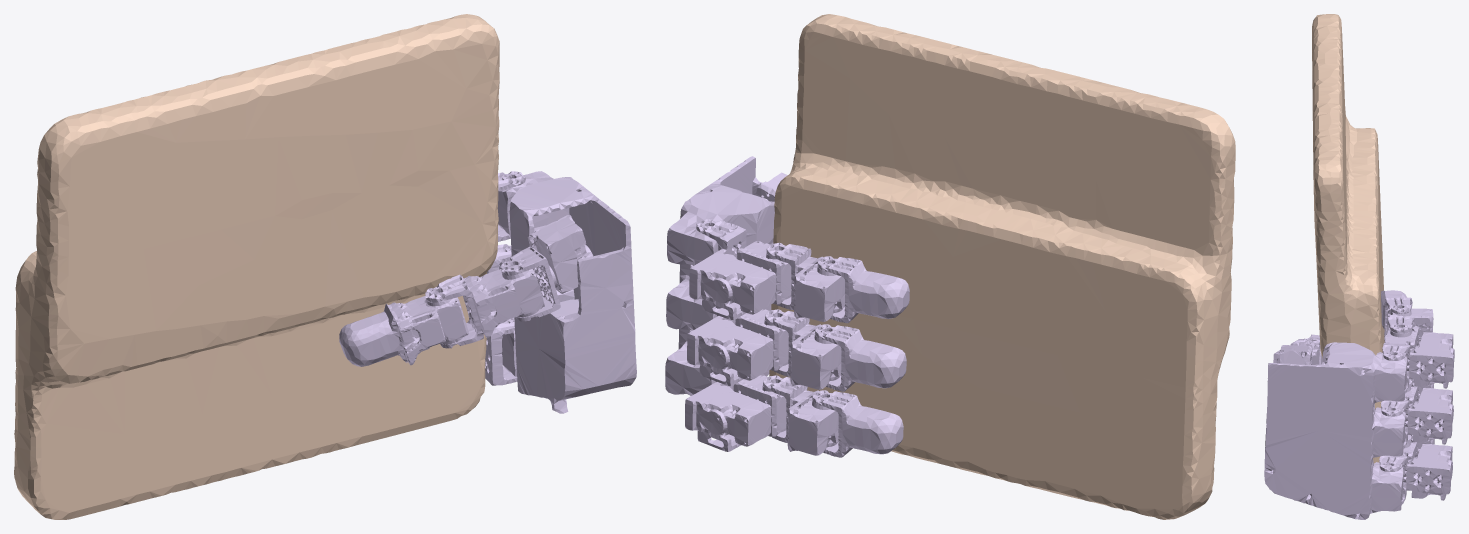
The model's file is 1761c857c184cd-closed.glb.
3 renders of one model, left to right at view 1: azimuth 30°, elevation 25°; view 2: azimuth 150°, elevation 25°; view 3: azimuth 270°, elevation 25°, orthographic. The views are drawn at different scales.
Parts seen in each view (by area): view 1: world, LEAP_hand; view 2: world, LEAP_hand; view 3: LEAP_hand, world.
Boxes of the visible parts, x1,y1,x2,y2 form: world: (14, 14, 499, 519); LEAP_hand: (339, 171, 636, 413); world: (769, 14, 1235, 519); LEAP_hand: (665, 156, 909, 457); LEAP_hand: (1264, 290, 1454, 519); world: (1312, 14, 1384, 463).
Size of the model in its own units: 0.3733 by 0.2656 by 0.1428.
